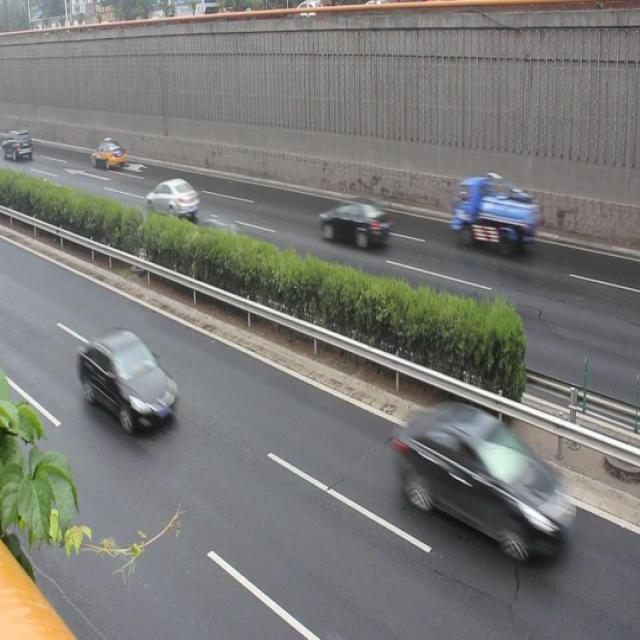bus: (455, 173, 540, 261)
car: (388, 386, 571, 574), (73, 324, 179, 438), (316, 191, 396, 259), (192, 202, 248, 266), (145, 166, 197, 225)
